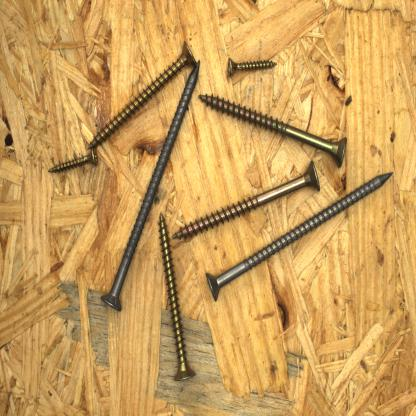screw: (98, 55, 203, 315), (201, 169, 395, 304), (84, 36, 201, 153), (168, 156, 324, 242), (196, 89, 354, 173), (155, 208, 199, 385), (223, 50, 281, 82), (44, 145, 102, 177)
